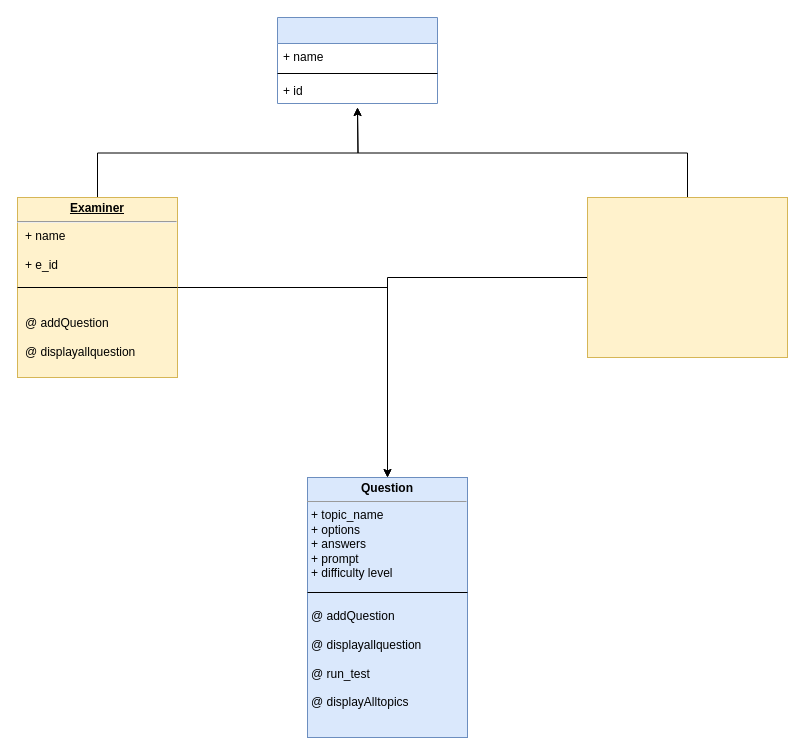
Some shapes in this 805 by 755 pixel diagram are drawn without their labels. Each missing label, with the box of its shape:
Testtaker + name + t_id @ view_topics @ run_test: (586, 196, 788, 358)
User: (276, 16, 438, 104)
